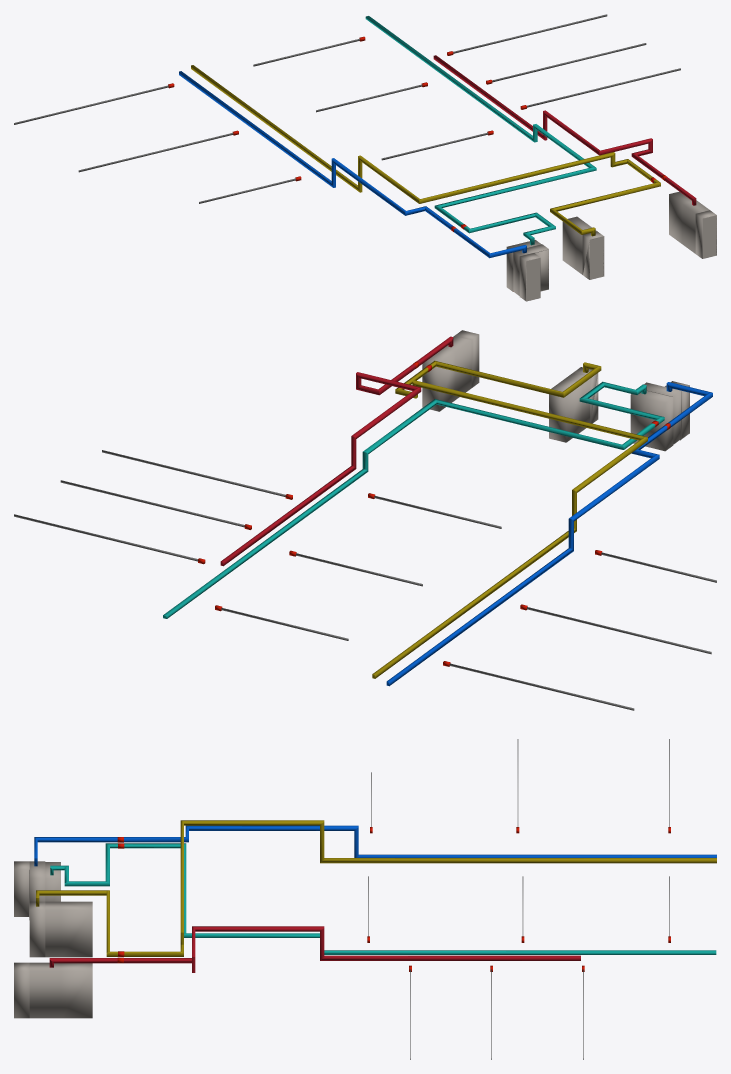
File: BuswayLayoutWithAnimation1.fbx
The picture shows the model from 3 angles, top to bottom: view 1: azimuth 30°, elevation 25°; view 2: azimuth 150°, elevation 25°; view 3: azimuth 270°, elevation 25°; orthographic projection. The views are drawn at different scales.
Visible parts, largest first — view 1: Import Symbol location <Not Shared> [475121]_[475058], Import Symbol location <Not Shared> [475121]_[475068], Import Symbol location <Not Shared> [475121]_[475067], Import Symbol location <Not Shared> [475121]_[475060], Import Symbol location <Not Shared> [475121].010, Import Symbol location <Not Shared> [475121].006, Import Symbol location <Not Shared> [475121].015, Import Symbol location <Not Shared> [475121].016, Import Symbol location <Not Shared> [475121].013, Import Symbol location <Not Shared> [475121].003, Import Symbol location <Not Shared> [475121].007, Import Symbol location <Not Shared> [475121].001; view 2: Import Symbol location <Not Shared> [475121]_[475058], Import Symbol location <Not Shared> [475121]_[475068], Import Symbol location <Not Shared> [475121]_[475067], Import Symbol location <Not Shared> [475121]_[475060], Import Symbol location <Not Shared> [475121].002, Import Symbol location <Not Shared> [475121].006, Import Symbol location <Not Shared> [475121].010, Import Symbol location <Not Shared> [475121].003; view 3: Import Symbol location <Not Shared> [475121]_[475058], Import Symbol location <Not Shared> [475121]_[475068], Import Symbol location <Not Shared> [475121]_[475067], Import Symbol location <Not Shared> [475121]_[475060], Import Symbol location <Not Shared> [475121].006, Import Symbol location <Not Shared> [475121].010, Import Symbol location <Not Shared> [475121].008, Import Symbol location <Not Shared> [475121].005, Import Symbol location <Not Shared> [475121].004, Import Symbol location <Not Shared> [475121].007, Import Symbol location <Not Shared> [475121].009, Import Symbol location <Not Shared> [475121].001 (+2 smaller).
Part boxes in pixels (x1,y1,x2,y2): Import Symbol location <Not Shared> [475121]_[475058]: (191,65,660,236); Import Symbol location <Not Shared> [475121]_[475068]: (365,16,596,245); Import Symbol location <Not Shared> [475121]_[475067]: (179,71,526,258); Import Symbol location <Not Shared> [475121]_[475060]: (433,55,696,205); Import Symbol location <Not Shared> [475121].010: (669,191,691,243); Import Symbol location <Not Shared> [475121].006: (562,216,589,269); Import Symbol location <Not Shared> [475121].015: (589,236,604,279); Import Symbol location <Not Shared> [475121].016: (702,215,716,258); Import Symbol location <Not Shared> [475121].013: (526,258,540,301); Import Symbol location <Not Shared> [475121].003: (513,244,548,295); Import Symbol location <Not Shared> [475121].007: (695,210,716,258); Import Symbol location <Not Shared> [475121].001: (519,253,540,300); Import Symbol location <Not Shared> [475121]_[475058]: (372,360,647,678); Import Symbol location <Not Shared> [475121]_[475068]: (163,381,664,618); Import Symbol location <Not Shared> [475121]_[475067]: (386,382,712,686); Import Symbol location <Not Shared> [475121]_[475060]: (220,336,453,566); Import Symbol location <Not Shared> [475121].002: (630,391,673,451); Import Symbol location <Not Shared> [475121].006: (549,378,582,442); Import Symbol location <Not Shared> [475121].010: (422,349,455,411); Import Symbol location <Not Shared> [475121].003: (644,382,681,444); Import Symbol location <Not Shared> [475121]_[475058]: (36,820,716,956); Import Symbol location <Not Shared> [475121]_[475068]: (50,843,716,954); Import Symbol location <Not Shared> [475121]_[475067]: (34,825,716,866); Import Symbol location <Not Shared> [475121]_[475060]: (49,926,580,972); Import Symbol location <Not Shared> [475121].006: (61,901,92,957); Import Symbol location <Not Shared> [475121].010: (61,963,92,1018); Import Symbol location <Not Shared> [475121].008: (29,962,45,1018); Import Symbol location <Not Shared> [475121].005: (29,901,45,957); Import Symbol location <Not Shared> [475121].004: (45,901,60,957); Import Symbol location <Not Shared> [475121].007: (14,962,29,1018); Import Symbol location <Not Shared> [475121].009: (45,962,60,1018); Import Symbol location <Not Shared> [475121].001: (14,861,29,916).
Bounding box in the file's own units: 638 × 63.95 × 595.
